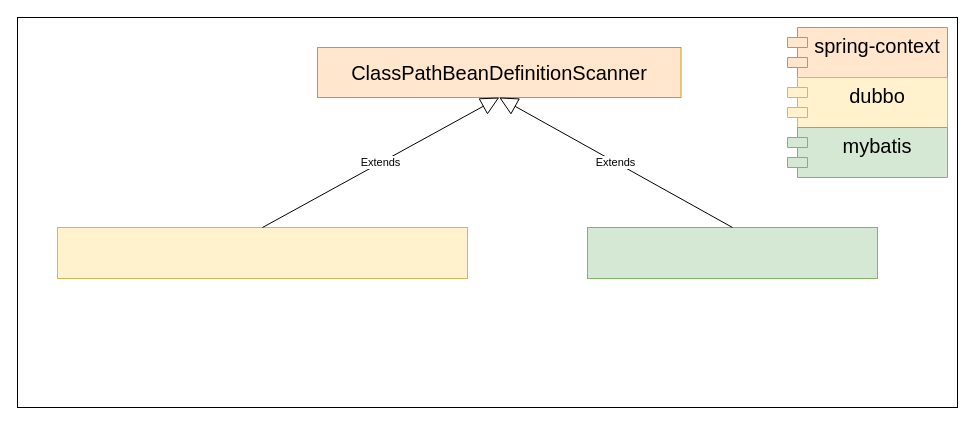
The diagram is 975 pixels wide and 425 high, and some of its shapes have lost their labels. Each missing label, with the centre of its shape:
"ClassPathMapperScanner" goes at (x=732, y=252).
"DubboClassPathBeanDefinitionScanner" goes at (x=262, y=252).
